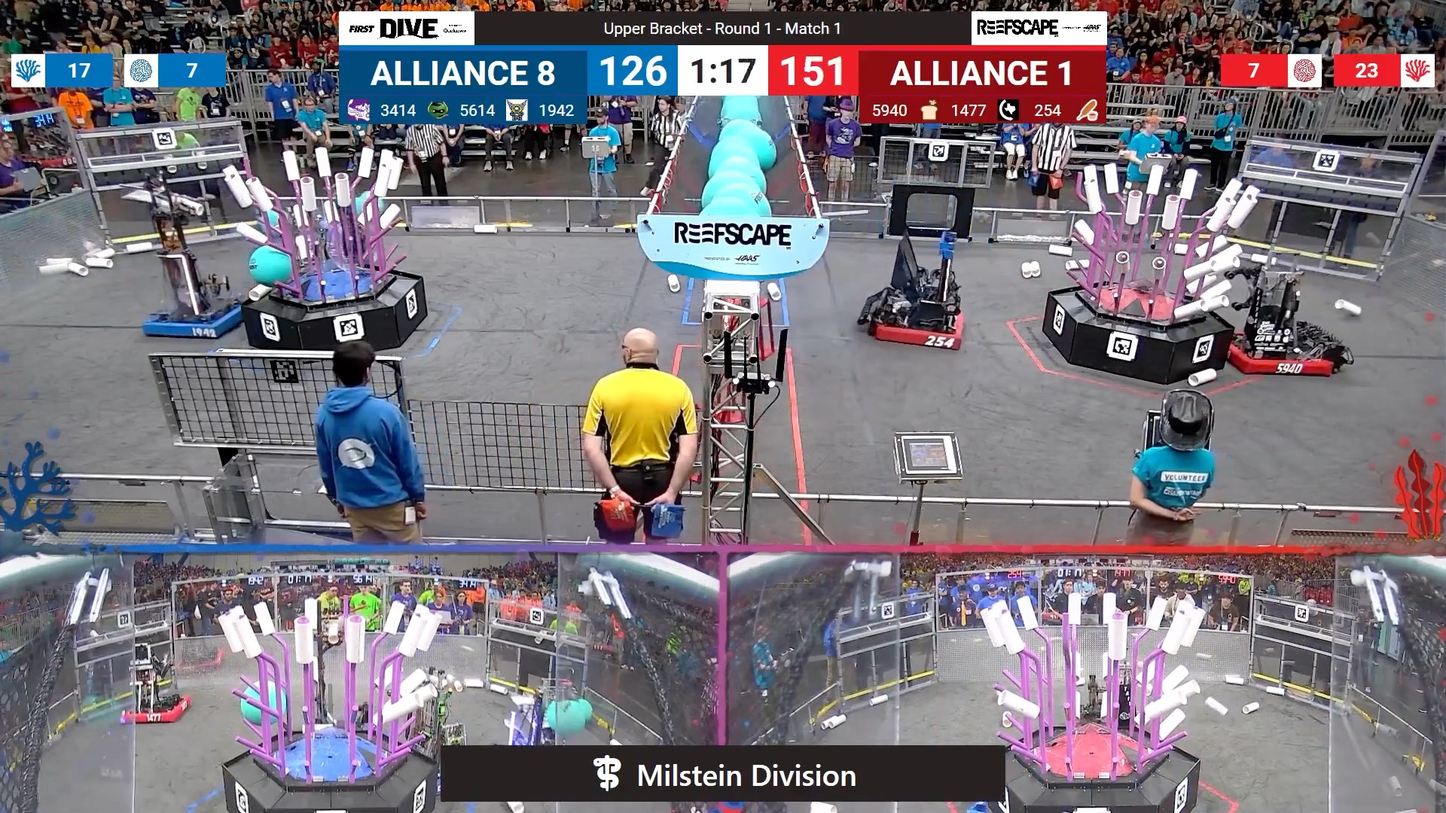bumpers: (1222, 320, 1348, 384), (862, 293, 975, 358), (143, 291, 256, 343), (118, 696, 199, 728)
